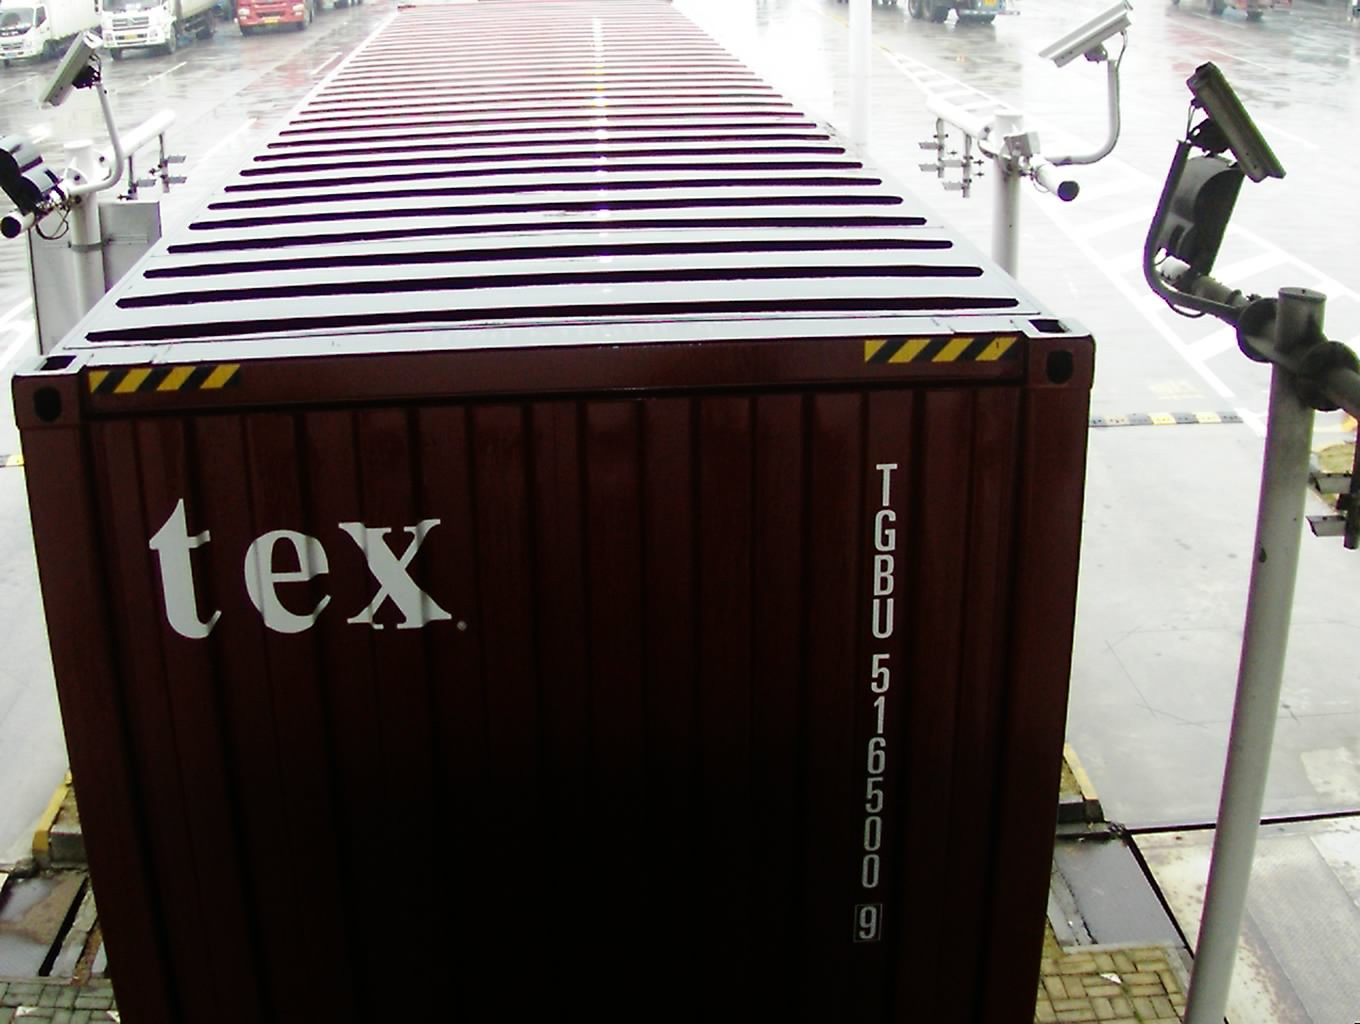words: (854, 452, 903, 948)
